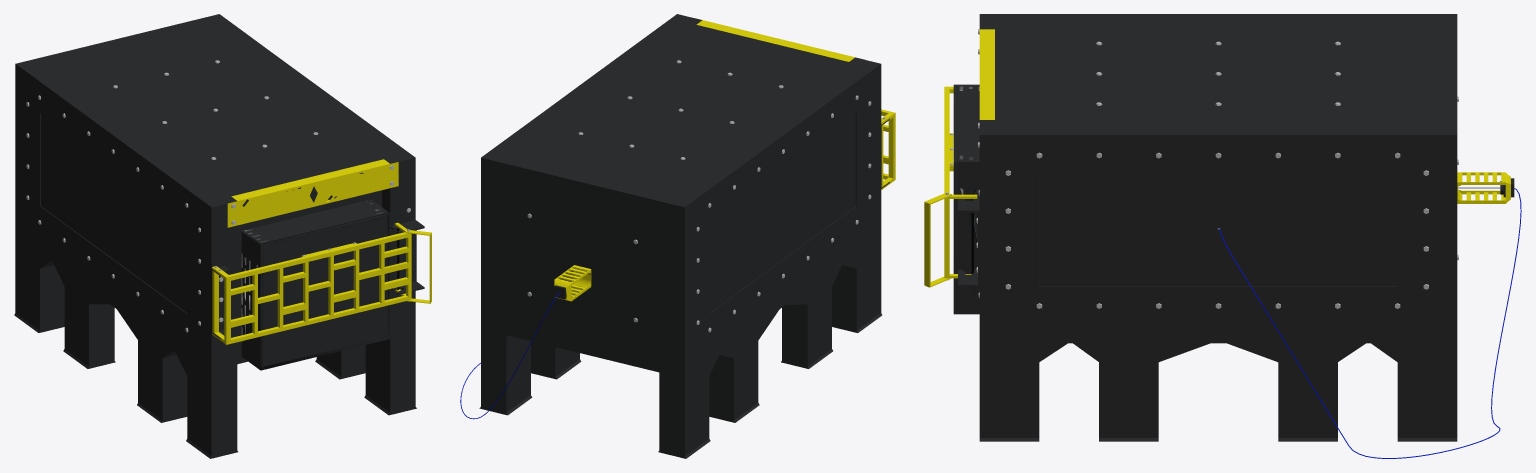
The model's file is Forge3.0.fbx.
3 renders of one model, left to right at view 1: azimuth 30°, elevation 25°; view 2: azimuth 150°, elevation 25°; view 3: azimuth 270°, elevation 25°, orthographic. The views are drawn at different scales.
Parts seen in each view (by area): view 1: Forge, Door Bearing; view 2: Forge, Door Bearing; view 3: Forge, Door Bearing, BezierCurve.
Boxes of the visible parts, x1,y1,x2,y2 form: Forge: (14, 14, 424, 458); Door Bearing: (212, 200, 431, 370); Forge: (479, 14, 889, 458); Door Bearing: (881, 109, 895, 189); Forge: (958, 14, 1514, 441); Door Bearing: (924, 84, 979, 314); BezierCurve: (1219, 188, 1521, 458).
Size of the model in its own units: 723 by 710 by 1250.
